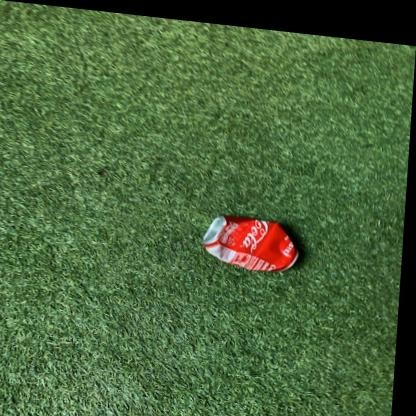trash: (203, 216, 297, 270)
